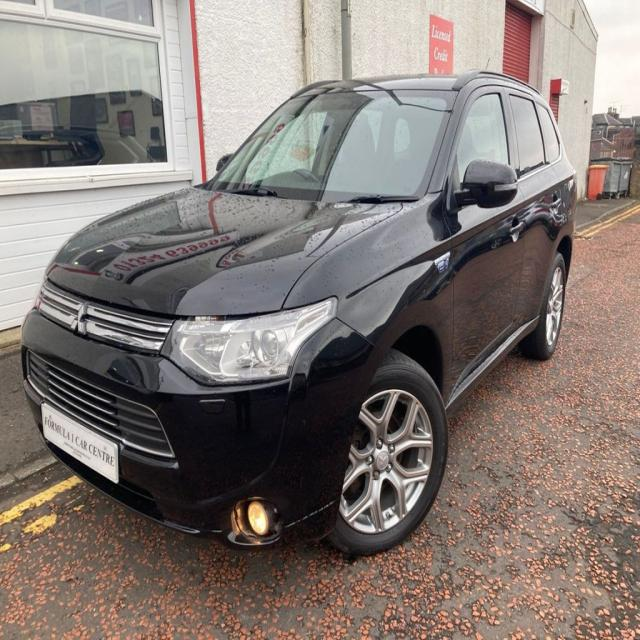light_vehicle: (18, 70, 579, 558)
